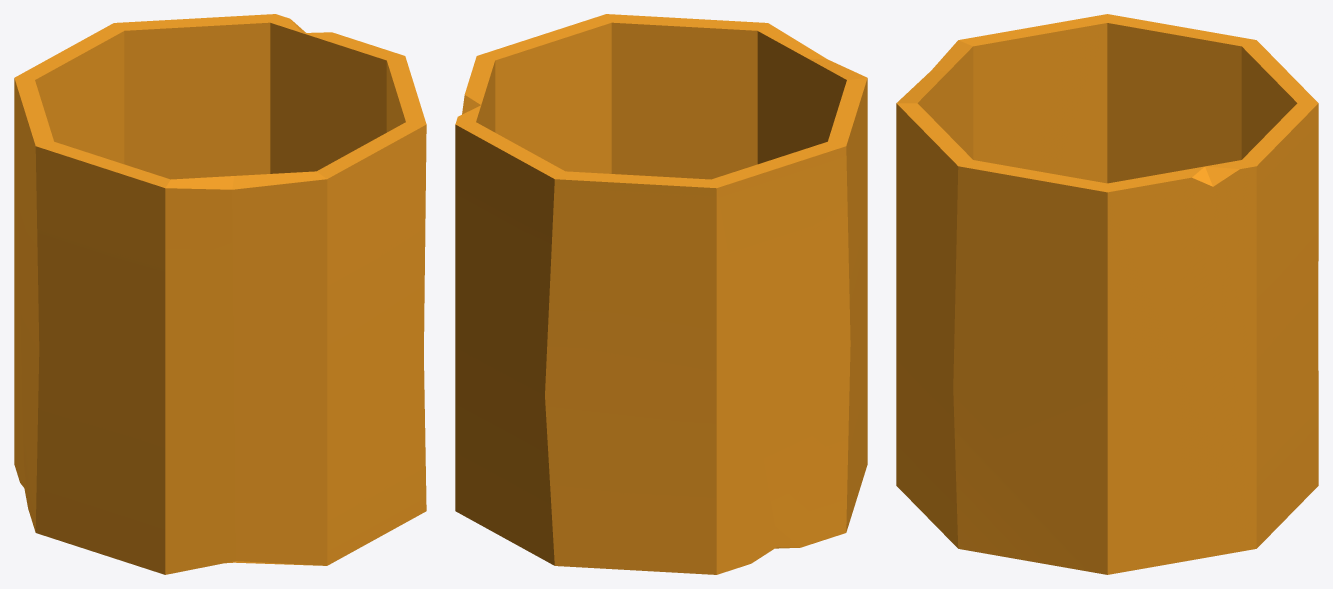
The picture shows the model from 3 angles, left to right: view 1: azimuth 30°, elevation 25°; view 2: azimuth 150°, elevation 25°; view 3: azimuth 270°, elevation 25°; orthographic projection.
Parts seen in each view (by area): view 1: SM_Primitive_Tube_01P; view 2: SM_Primitive_Tube_01P; view 3: SM_Primitive_Tube_01P.
Part boxes in pixels (bbox=[...]): SM_Primitive_Tube_01P: bbox=[14, 14, 426, 574]; SM_Primitive_Tube_01P: bbox=[455, 14, 867, 574]; SM_Primitive_Tube_01P: bbox=[896, 14, 1318, 574].
Size of the model in its own units: 100 by 100 by 100.
